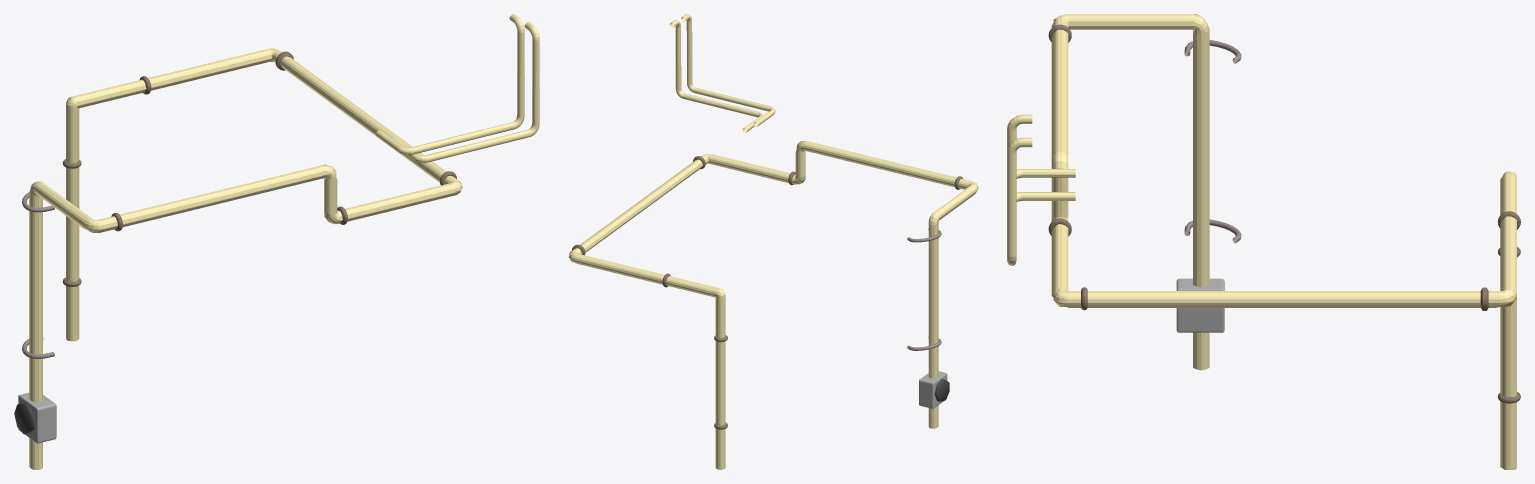
Rendered from compressed_Pipes.glb.
3 renders of one model, left to right at view 1: azimuth 30°, elevation 25°; view 2: azimuth 150°, elevation 25°; view 3: azimuth 270°, elevation 25°, orthographic. The views are drawn at different scales.
Parts seen in each view (by area): view 1: Pipes, Plane.021, Plane.022, Cube; view 2: Pipes, Plane.021, Plane.022, Cube; view 3: Pipes, Plane.022, Cube, Plane.021.
Boxes of the visible parts, <box> form: Pipes: <box>29,48,462,469</box>; Plane.021: <box>376,14,524,154</box>; Plane.022: <box>392,22,539,162</box>; Cube: <box>18,393,56,443</box>; Pipes: <box>568,140,978,469</box>; Plane.021: <box>681,14,775,126</box>; Plane.022: <box>670,20,763,132</box>; Cube: <box>919,371,947,408</box>; Pipes: <box>1051,14,1516,469</box>; Plane.022: <box>1007,137,1075,265</box>; Cube: <box>1176,278,1224,332</box>; Plane.021: <box>1007,114,1075,178</box>.
Size of the model in its own units: 10.96 by 9.69 by 9.05.
